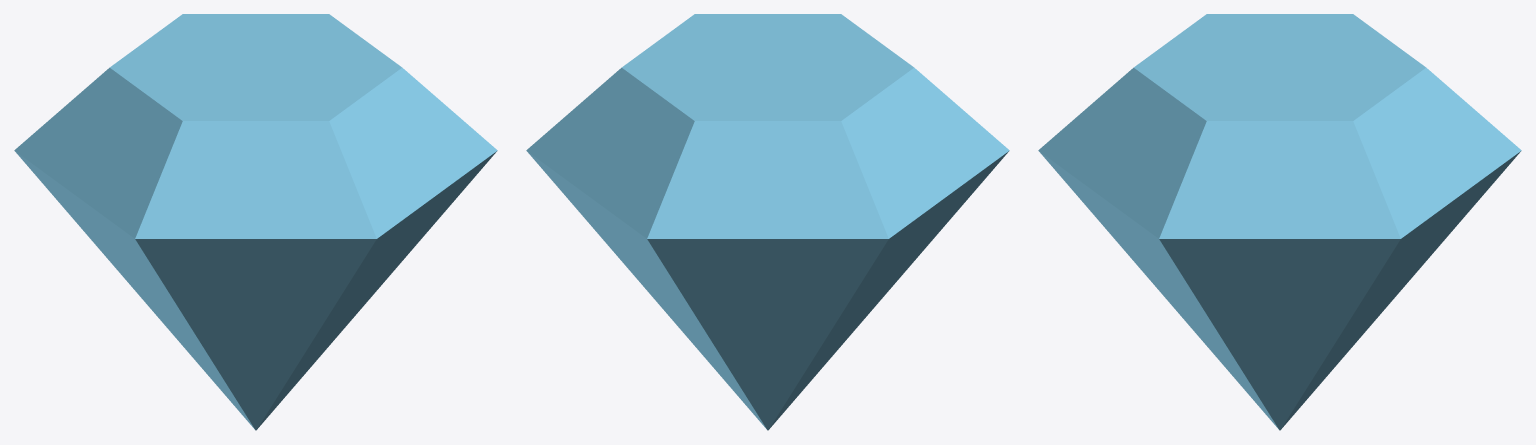
Rendered from diamant.fbx.
The picture shows the model from 3 angles, left to right: view 1: azimuth 30°, elevation 25°; view 2: azimuth 150°, elevation 25°; view 3: azimuth 270°, elevation 25°; orthographic projection.
Parts seen in each view (by area): view 1: Circle; view 2: Circle; view 3: Circle.
Boxes of the visible parts, x1,y1,x2,y2 form: Circle: (14,14,497,430); Circle: (526,14,1009,430); Circle: (1038,14,1521,430).
Bounding box in the file's own units: 173 × 166 × 200.
